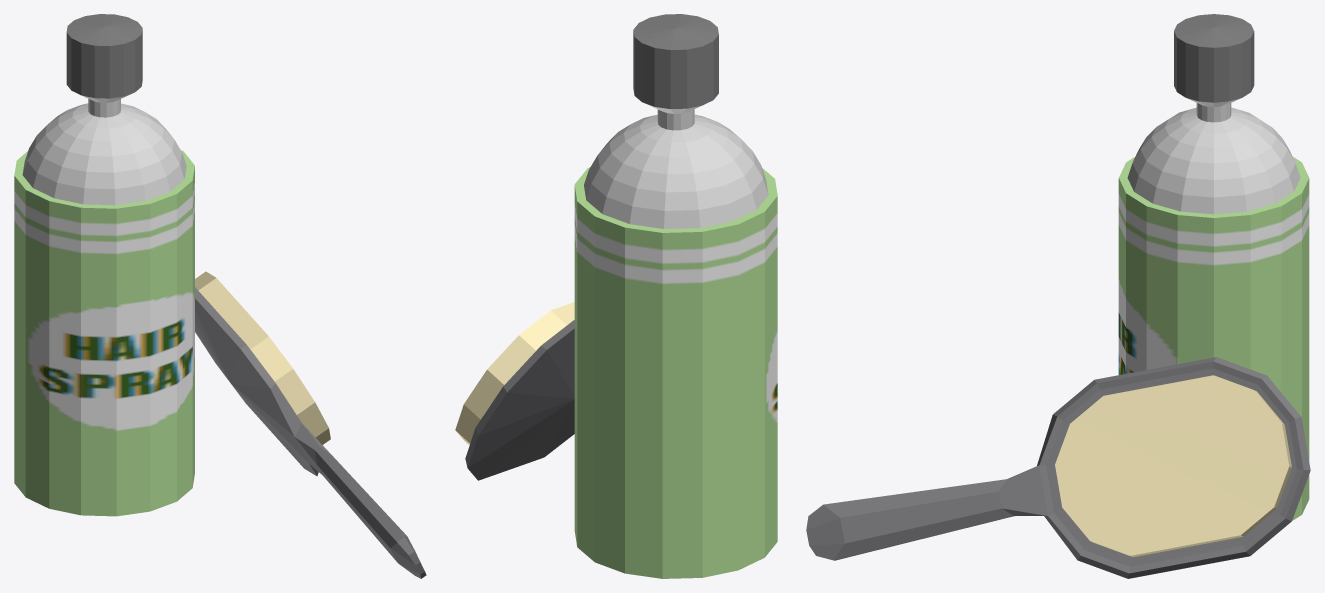
The model's file is CollectableHairStyling.fbx.
The picture shows the model from 3 angles, left to right: view 1: azimuth 30°, elevation 25°; view 2: azimuth 150°, elevation 25°; view 3: azimuth 270°, elevation 25°; orthographic projection. The views are drawn at different scales.
Visible parts, largest first — view 1: Brush; view 2: Brush; view 3: Brush.
Part boxes in pixels (box(x1,y1,x2,y2)): Brush: box(14, 14, 426, 578); Brush: box(455, 14, 777, 578); Brush: box(806, 14, 1310, 578).
Size of the model in its own units: 17.7 by 29.96 by 29.02.
